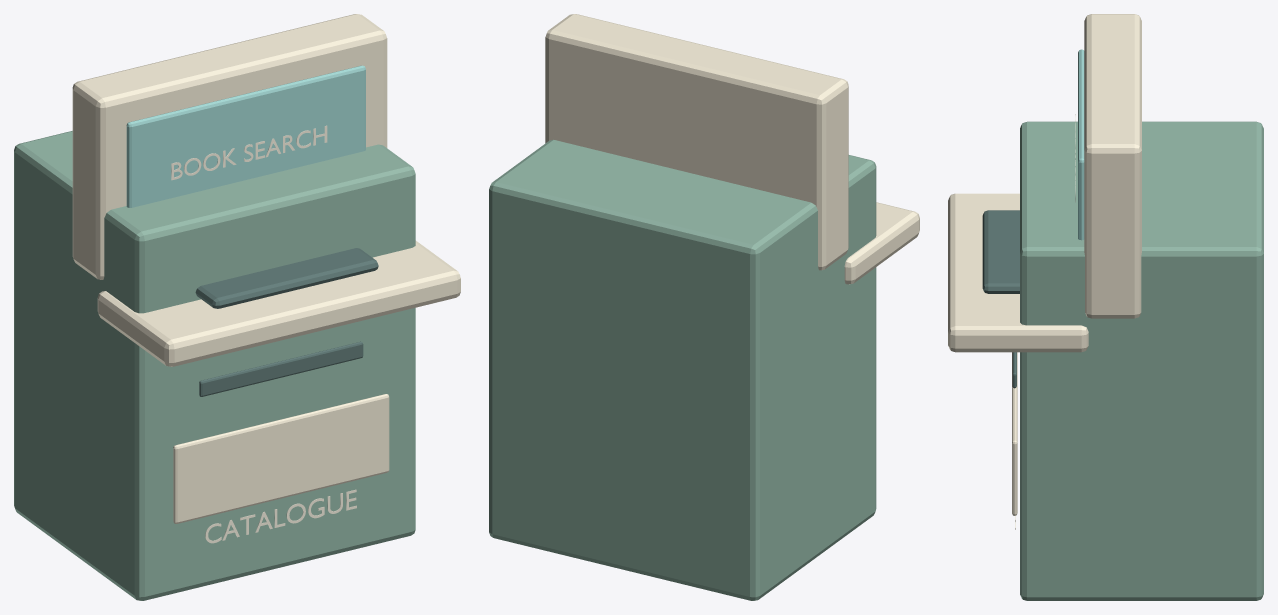
Rendered from search.glb.
3 renders of one model, left to right at view 1: azimuth 30°, elevation 25°; view 2: azimuth 150°, elevation 25°; view 3: azimuth 270°, elevation 25°, orthographic. The views are drawn at different scales.
Parts seen in each view (by area): view 1: search; view 2: search; view 3: search.
Boxes of the visible parts, box(x1,y1,x2,y2) form: search: box(14, 14, 460, 600); search: box(489, 14, 919, 600); search: box(948, 14, 1263, 600).
Size of the model in its own units: 1.14 by 1.76 by 1.1.
